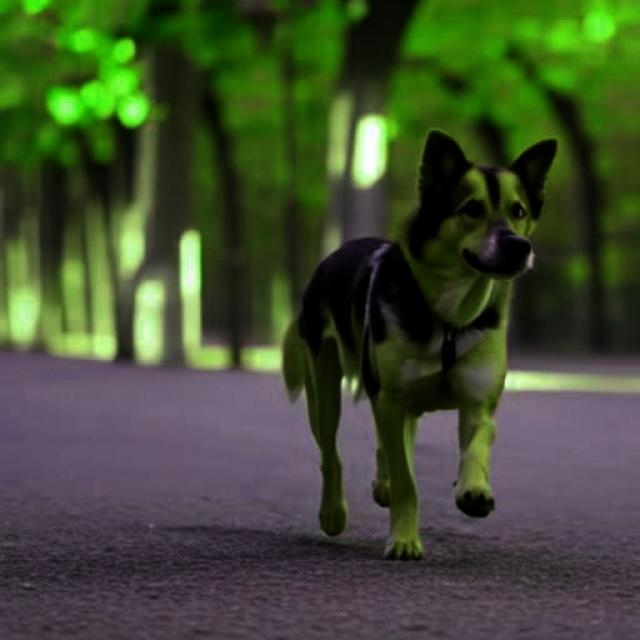Dog: (282, 130, 558, 561)
